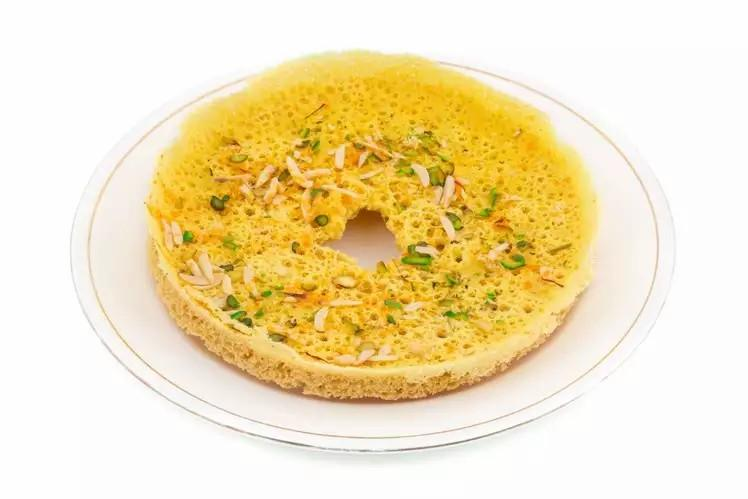Ghevar: (148, 53, 600, 401)
